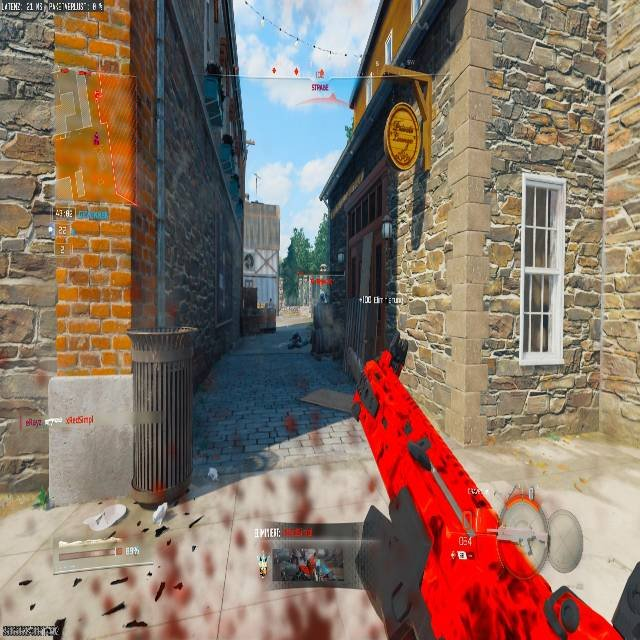player: (319, 291, 326, 303)
